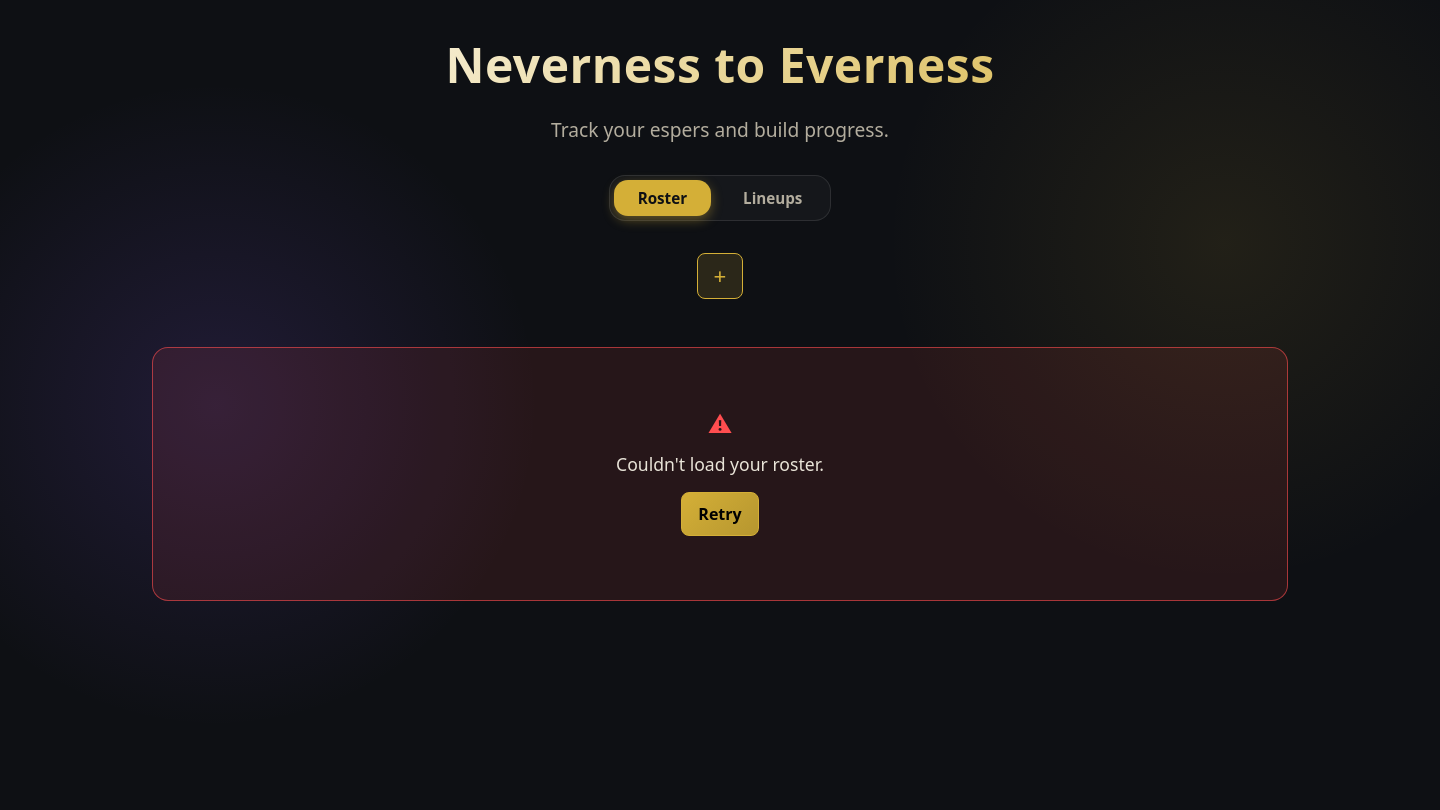
N2ePage error surfaces and party load wiring › parties tab reflects the party hook load state, not the roster load state
Click the button "Lineups": {"x": 773, "y": 198} [719,180,826,216]
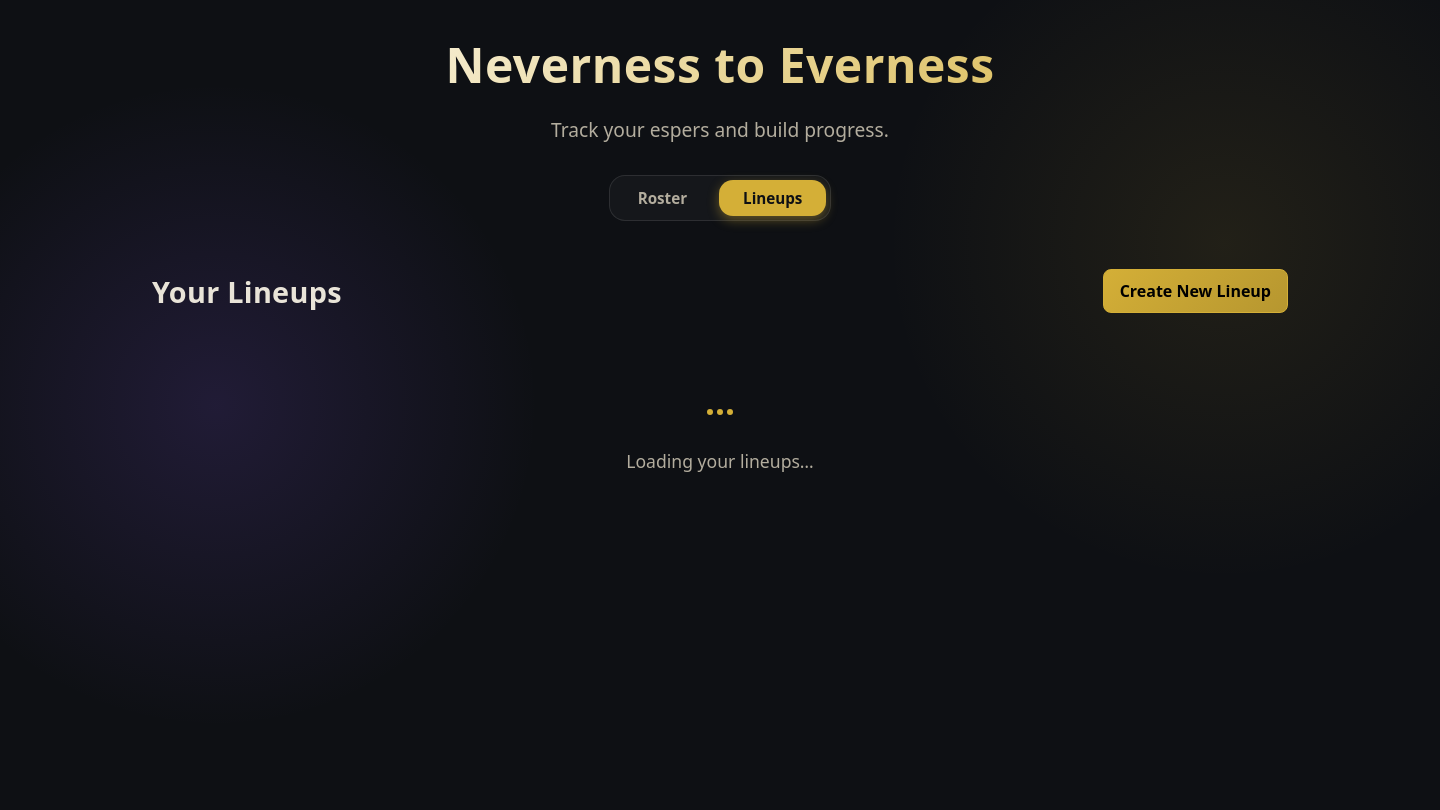
Result: the message reads "Loading your lineups…" at [626,449,814,473]
